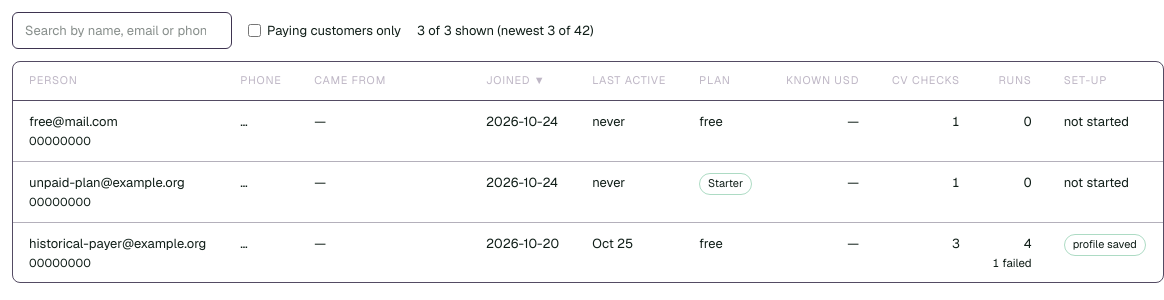
Test: admin money evidence presentation › keeps a historical payer with unknown USD in the paying-only filter even without a current plan
Click the checkbox labelled "Paying customers only".
click(254, 31)  # box [248, 24, 261, 37]
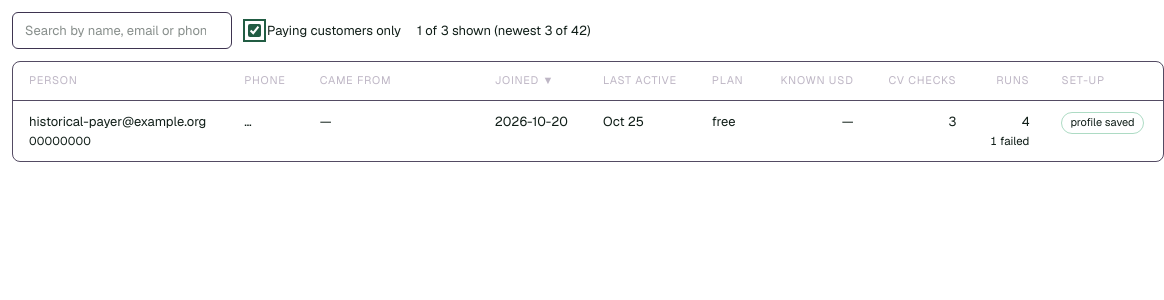
Now the link "free@mail.com" is gone
Now the link "unpaid-plan@example.org" is gone
Now the number of rows is 2, box [13, 62, 1163, 100]; [13, 100, 1163, 161]
